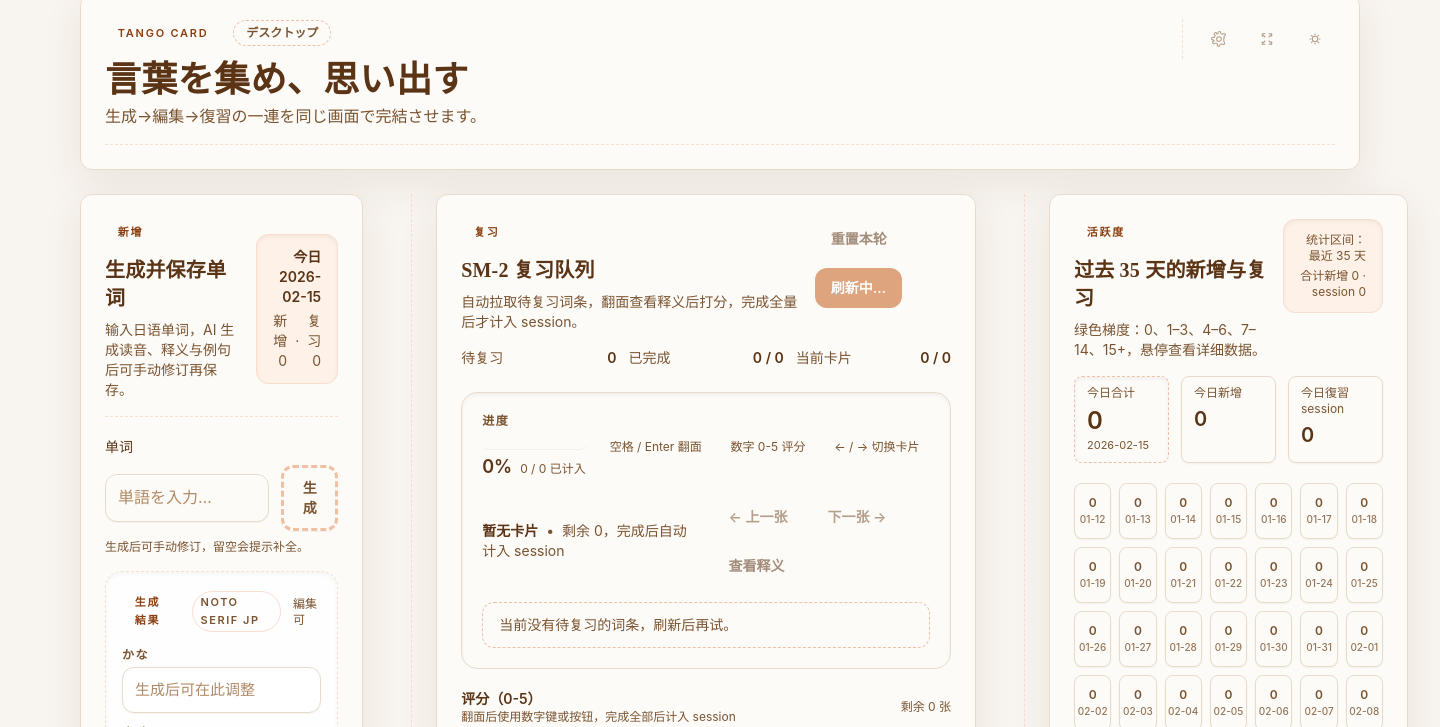
Test: 新增词条流程 › 阻止空单词触发生成并给出提示
Click the button "生成" at [310, 498], box [282, 465, 338, 531]
(page scrolled)
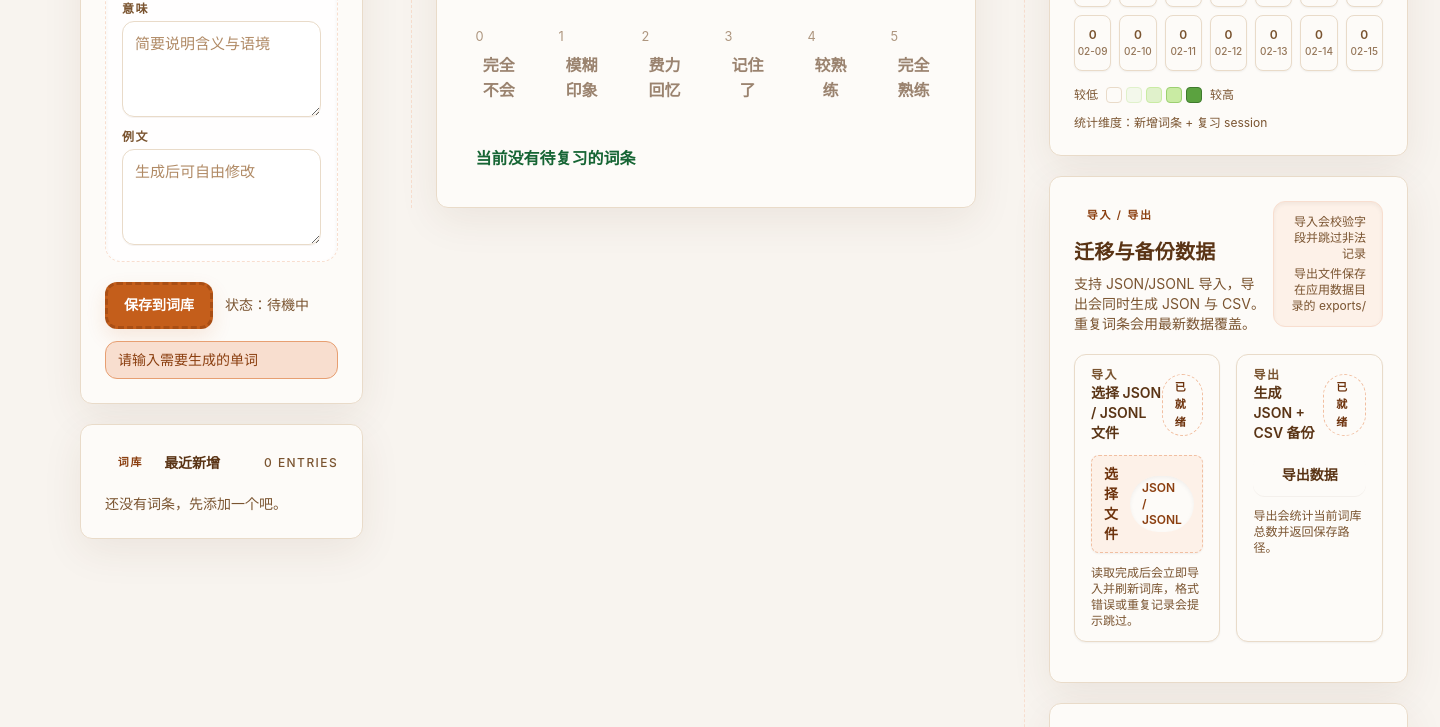
Now the text "请输入需要生成的单词" is shown, box [105, 341, 338, 379]
